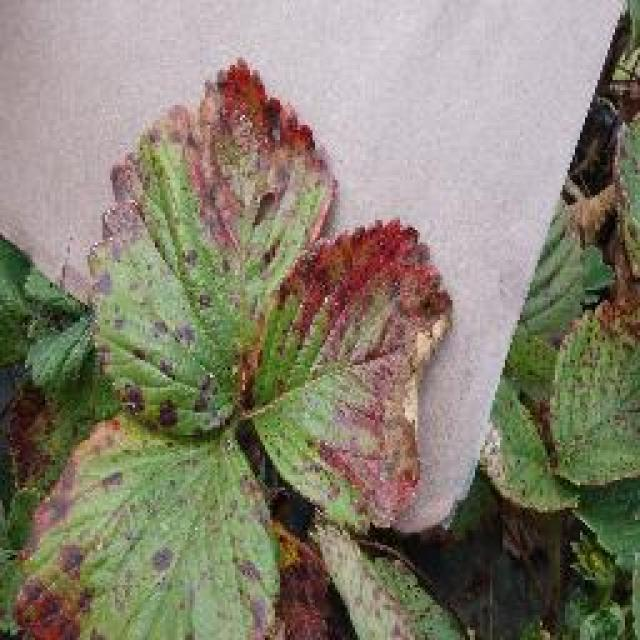Strawberry___Leaf_scorch: (2, 35, 478, 637)
